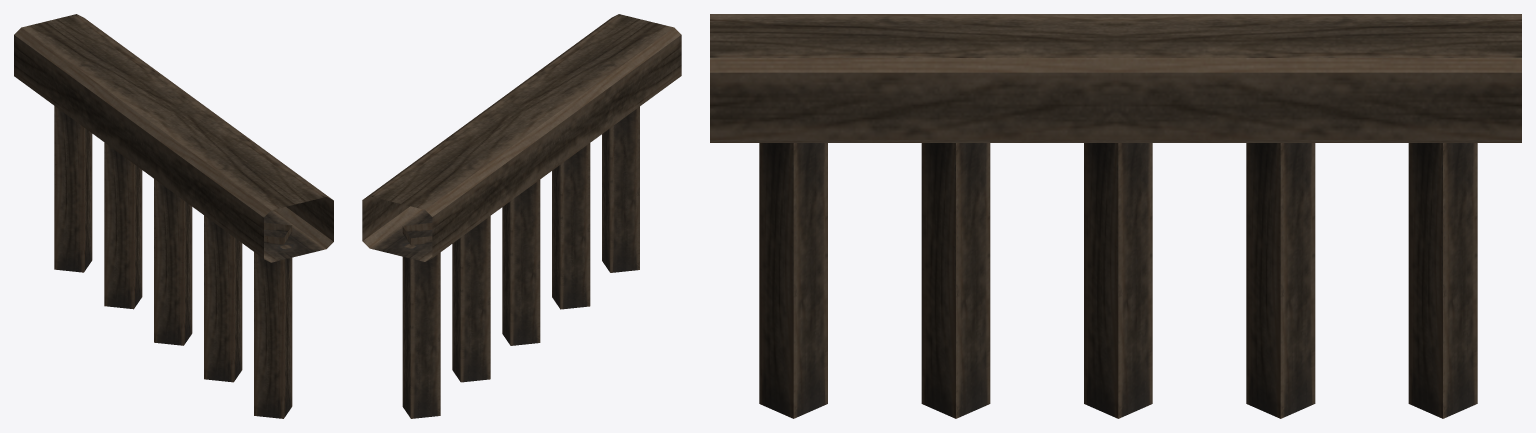
The model's file is Wall Interior Top 2x1 Window B.fbx.
The picture shows the model from 3 angles, left to right: view 1: azimuth 30°, elevation 25°; view 2: azimuth 150°, elevation 25°; view 3: azimuth 270°, elevation 25°; orthographic projection. The views are drawn at different scales.
Parts seen in each view (by area): view 1: Wall Interior Top 2x1 Window B; view 2: Wall Interior Top 2x1 Window B; view 3: Wall Interior Top 2x1 Window B.
Part boxes in pixels (box(x1,y1,x2,y2)): Wall Interior Top 2x1 Window B: box(14, 14, 333, 418); Wall Interior Top 2x1 Window B: box(362, 14, 681, 418); Wall Interior Top 2x1 Window B: box(710, 14, 1521, 418).
Size of the model in its own units: 0.324 by 1 by 2.
